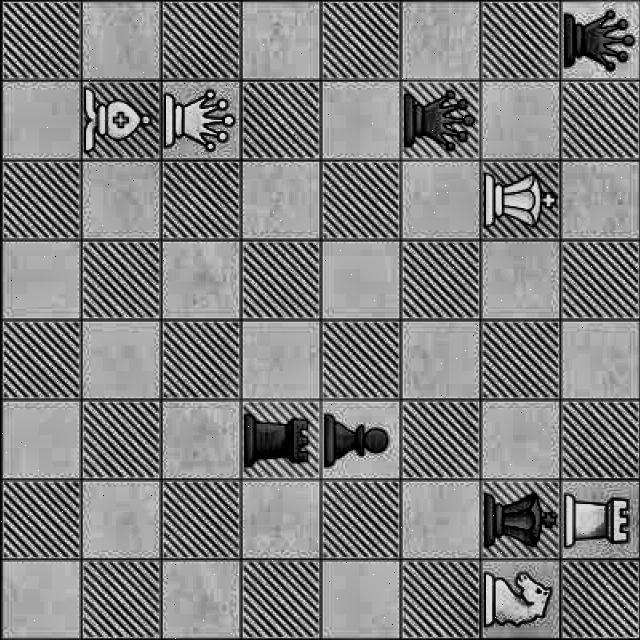black king: (479, 479, 559, 559)
black pawn: (320, 396, 399, 480)
black queen: (401, 86, 485, 156), (560, 4, 636, 79)
black rook: (242, 404, 316, 474)
white bishop: (80, 81, 150, 158)
white king: (480, 164, 560, 236)
white queen: (162, 84, 240, 156)
white rook: (559, 482, 637, 552)
whiteknight: (483, 561, 559, 631)
